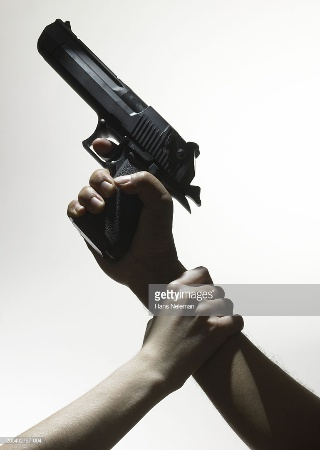handgun: (36, 19, 202, 260)
